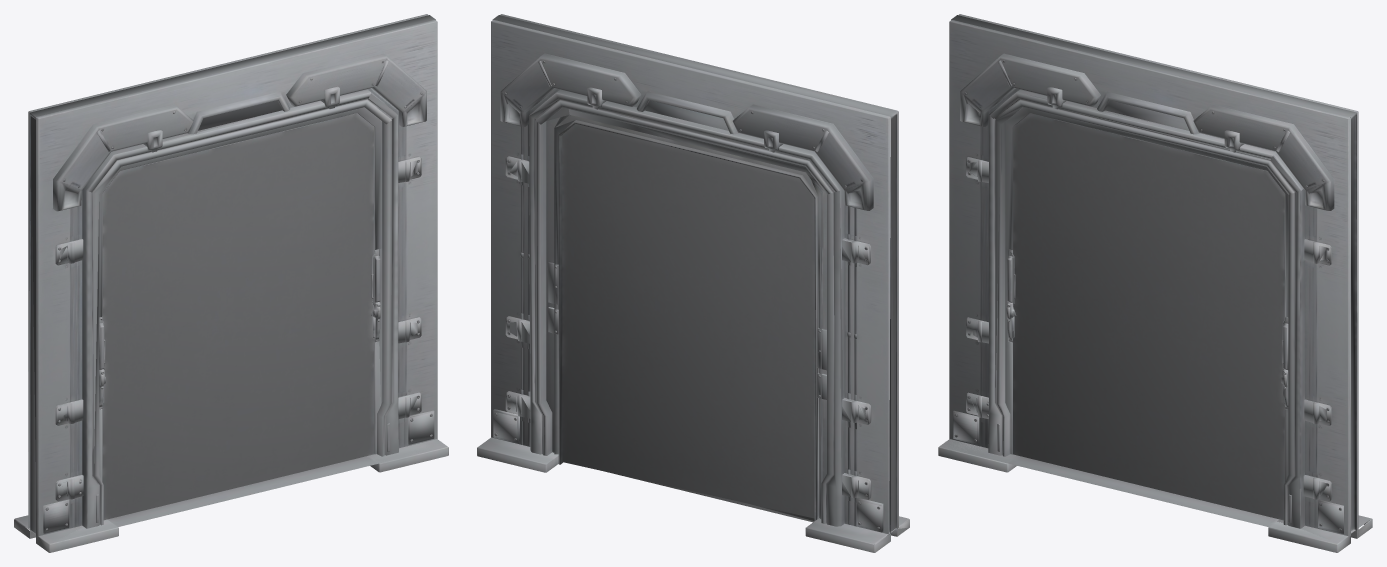
File: tripo_convert_50ddb0ba-22bf-454c-a4cc-36df7fdcdf59.fbx
3 views of the same model, side by side, from view 1: azimuth 30°, elevation 25°; view 2: azimuth 150°, elevation 25°; view 3: azimuth 330°, elevation 25° (orthographic).
Visible parts, largest first — view 1: tripo_part_167, tripo_part_6, tripo_part_17, tripo_part_38, tripo_part_30, tripo_part_28, tripo_part_0, tripo_part_11, tripo_part_8, tripo_part_66, tripo_part_187, tripo_part_232 (+5 smaller); view 2: tripo_part_187, tripo_part_1, tripo_part_26, tripo_part_36, tripo_part_28, tripo_part_56, tripo_part_10, tripo_part_12, tripo_part_17, tripo_part_67, tripo_part_167, tripo_part_235 (+6 smaller); view 3: tripo_part_167, tripo_part_6, tripo_part_17, tripo_part_30, tripo_part_38, tripo_part_28, tripo_part_11, tripo_part_0, tripo_part_8, tripo_part_66, tripo_part_187, tripo_part_232 (+2 smaller).
Boxes of the visible parts, left/top/right/bottom form: tripo_part_167: left=36, top=20, right=437, bottom=536; tripo_part_6: left=369, top=93, right=398, bottom=456; tripo_part_17: left=14, top=439, right=448, bottom=552; tripo_part_38: left=82, top=113, right=269, bottom=528; tripo_part_30: left=88, top=89, right=393, bottom=463; tripo_part_28: left=30, top=15, right=435, bottom=533; tripo_part_0: left=53, top=104, right=193, bottom=211; tripo_part_11: left=286, top=53, right=426, bottom=126; tripo_part_8: left=99, top=107, right=382, bottom=481; tripo_part_66: left=187, top=91, right=290, bottom=134; tripo_part_187: left=28, top=14, right=428, bottom=528; tripo_part_232: left=43, top=499, right=69, bottom=533; tripo_part_187: left=491, top=20, right=890, bottom=534; tripo_part_1: left=547, top=107, right=826, bottom=520; tripo_part_26: left=529, top=89, right=844, bottom=471; tripo_part_36: left=529, top=100, right=556, bottom=455; tripo_part_28: left=492, top=15, right=897, bottom=533; tripo_part_56: left=821, top=190, right=844, bottom=526; tripo_part_10: left=732, top=104, right=873, bottom=210; tripo_part_12: left=500, top=53, right=641, bottom=126; tripo_part_17: left=477, top=437, right=909, bottom=552; tripo_part_67: left=637, top=91, right=739, bottom=134; tripo_part_167: left=500, top=14, right=898, bottom=528; tripo_part_235: left=856, top=498, right=883, bottom=532; tripo_part_167: left=949, top=20, right=1350, bottom=536; tripo_part_6: left=1270, top=156, right=1304, bottom=528; tripo_part_17: left=938, top=439, right=1372, bottom=552; tripo_part_30: left=989, top=92, right=1303, bottom=387; tripo_part_38: left=988, top=89, right=1181, bottom=456; tripo_part_28: left=951, top=15, right=1356, bottom=530; tripo_part_11: left=1193, top=104, right=1334, bottom=210; tripo_part_0: left=960, top=53, right=1100, bottom=126; tripo_part_8: left=1005, top=107, right=1288, bottom=454; tripo_part_66: left=1097, top=91, right=1199, bottom=134; tripo_part_187: left=958, top=14, right=1358, bottom=530; tripo_part_232: left=953, top=410, right=979, bottom=444.
Size of the model in its own units: 0.981 by 0.9995 by 0.1519.
Materials: 1 (1 with a texture image).
